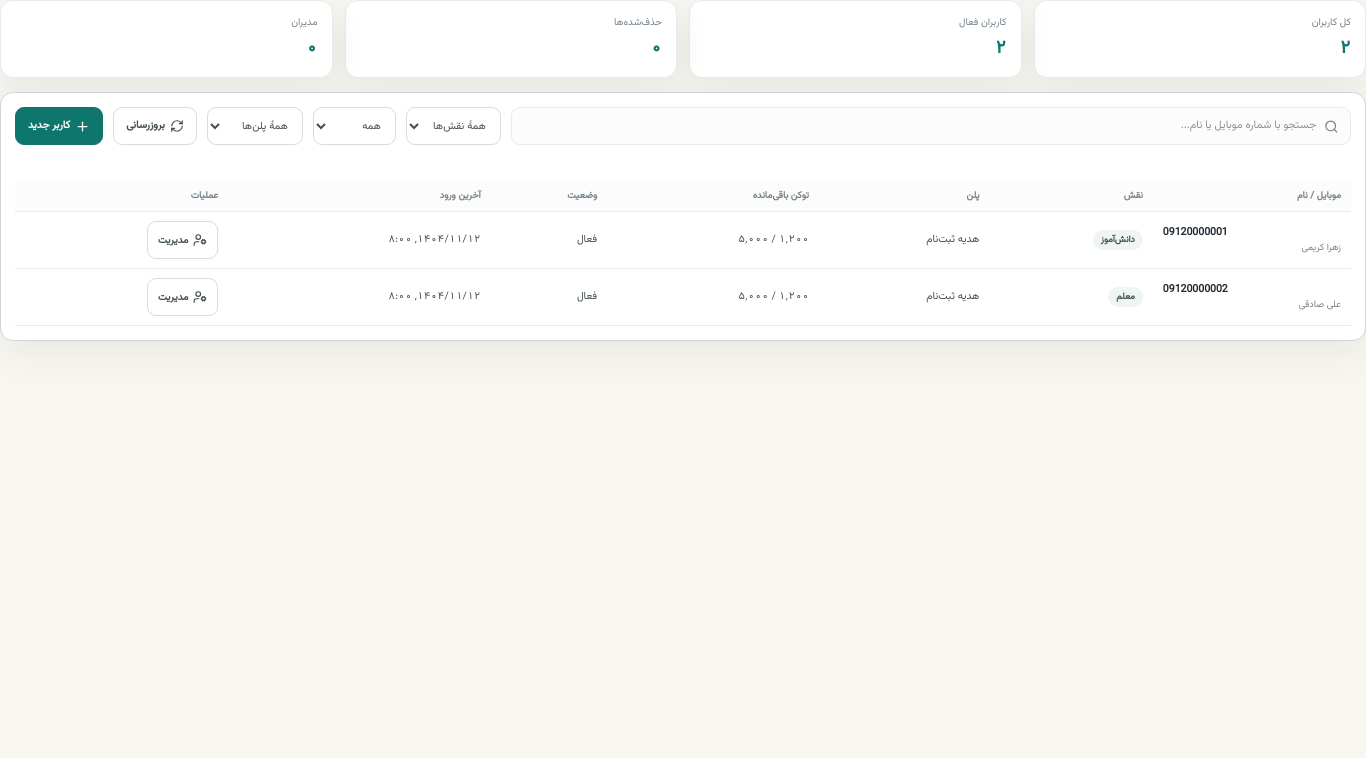
Scenario: AdminUsersPanel › does not send a destructive delete until the admin confirms
expect the text "09120000001" is shown: met, box [1163, 224, 1228, 241]
Click the button "مدیریت" in the row of "09120000001".
click(183, 240)  # box [147, 221, 218, 259]
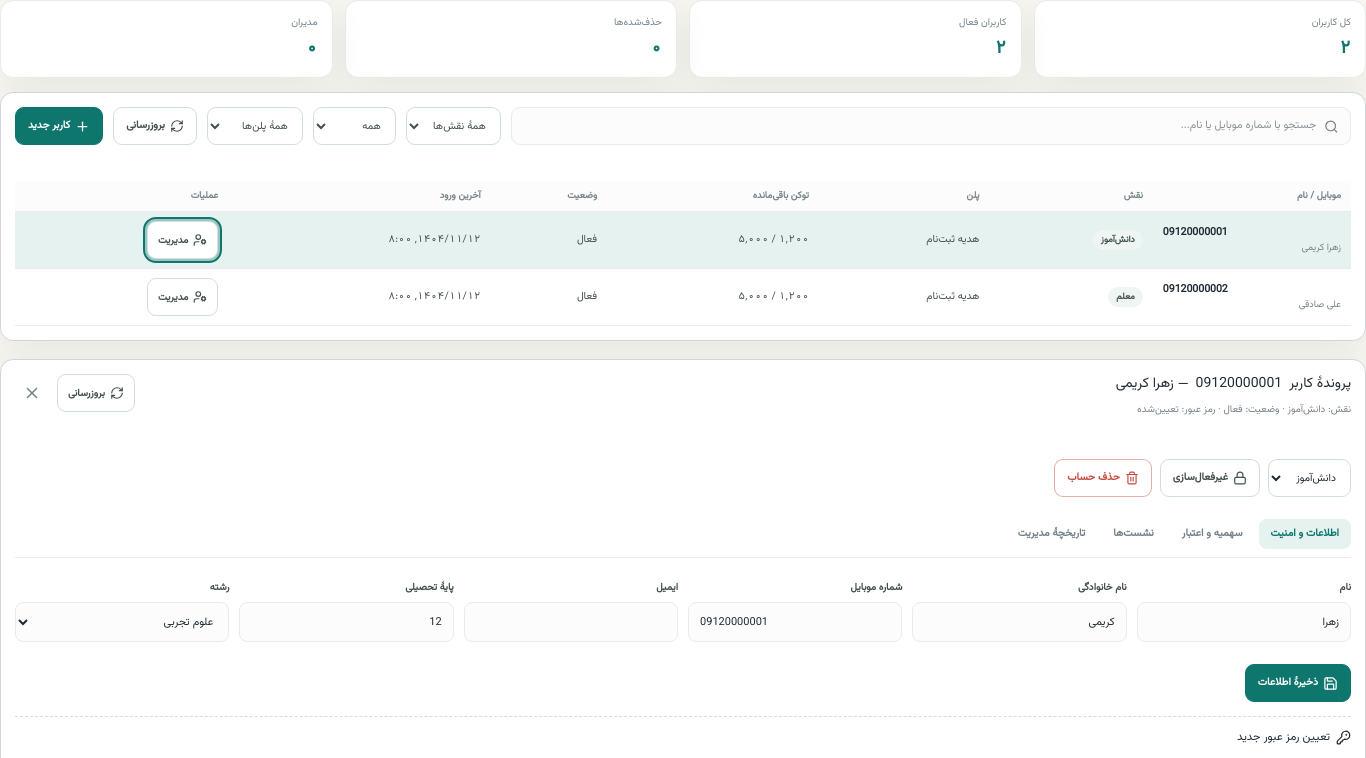
Click the button "حذف حساب".
click(1103, 478)  # box [1054, 459, 1152, 497]
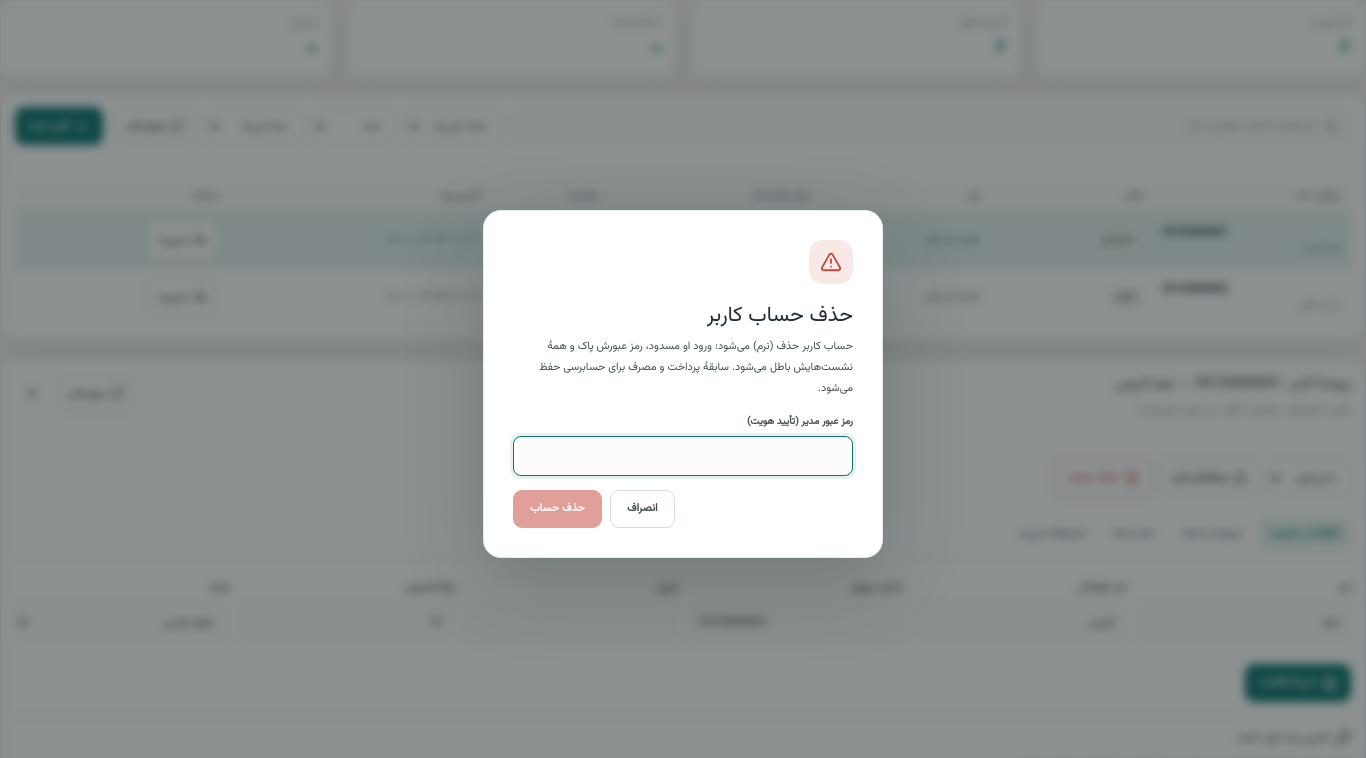
expect the heading "حذف حساب کاربر" is shown: met, box [707, 299, 853, 332]
Click the button "انصراف".
click(642, 509)  # box [610, 490, 675, 528]
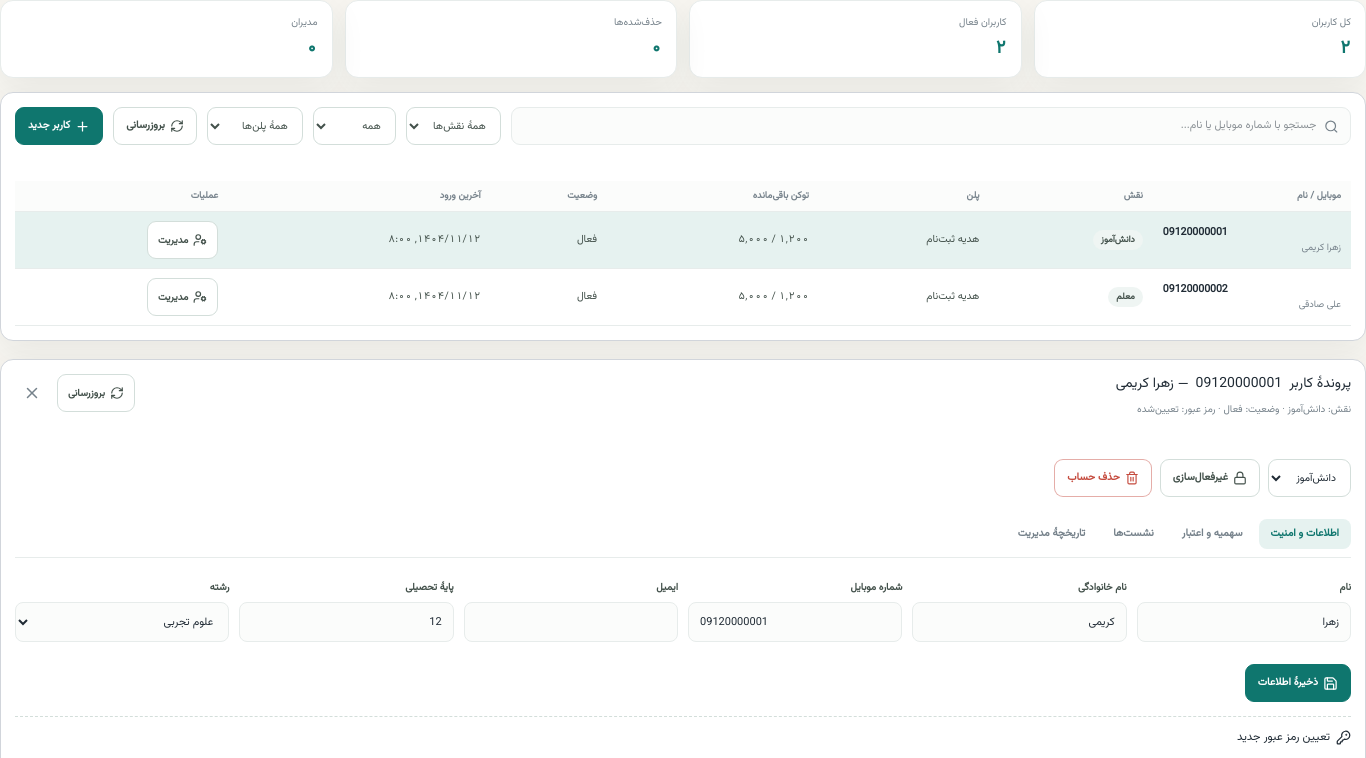
expect the dialog is gone: met
